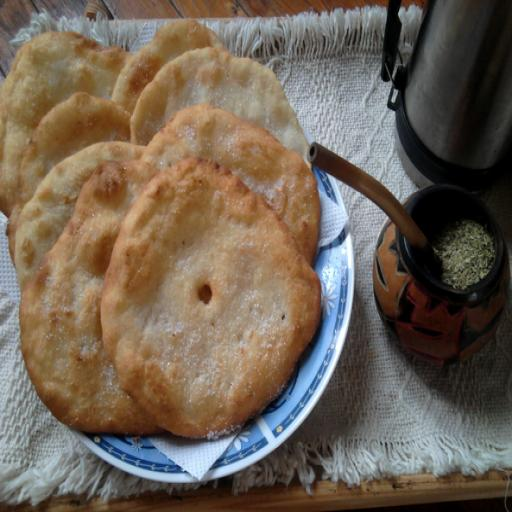bolleria: (102, 161, 321, 438), (102, 159, 303, 399), (20, 161, 159, 434), (143, 104, 320, 264), (0, 32, 128, 216), (8, 93, 130, 259), (132, 49, 308, 159), (14, 142, 143, 291), (113, 20, 223, 113)
mate: (348, 171, 510, 365)
termo: (388, 0, 511, 190)
